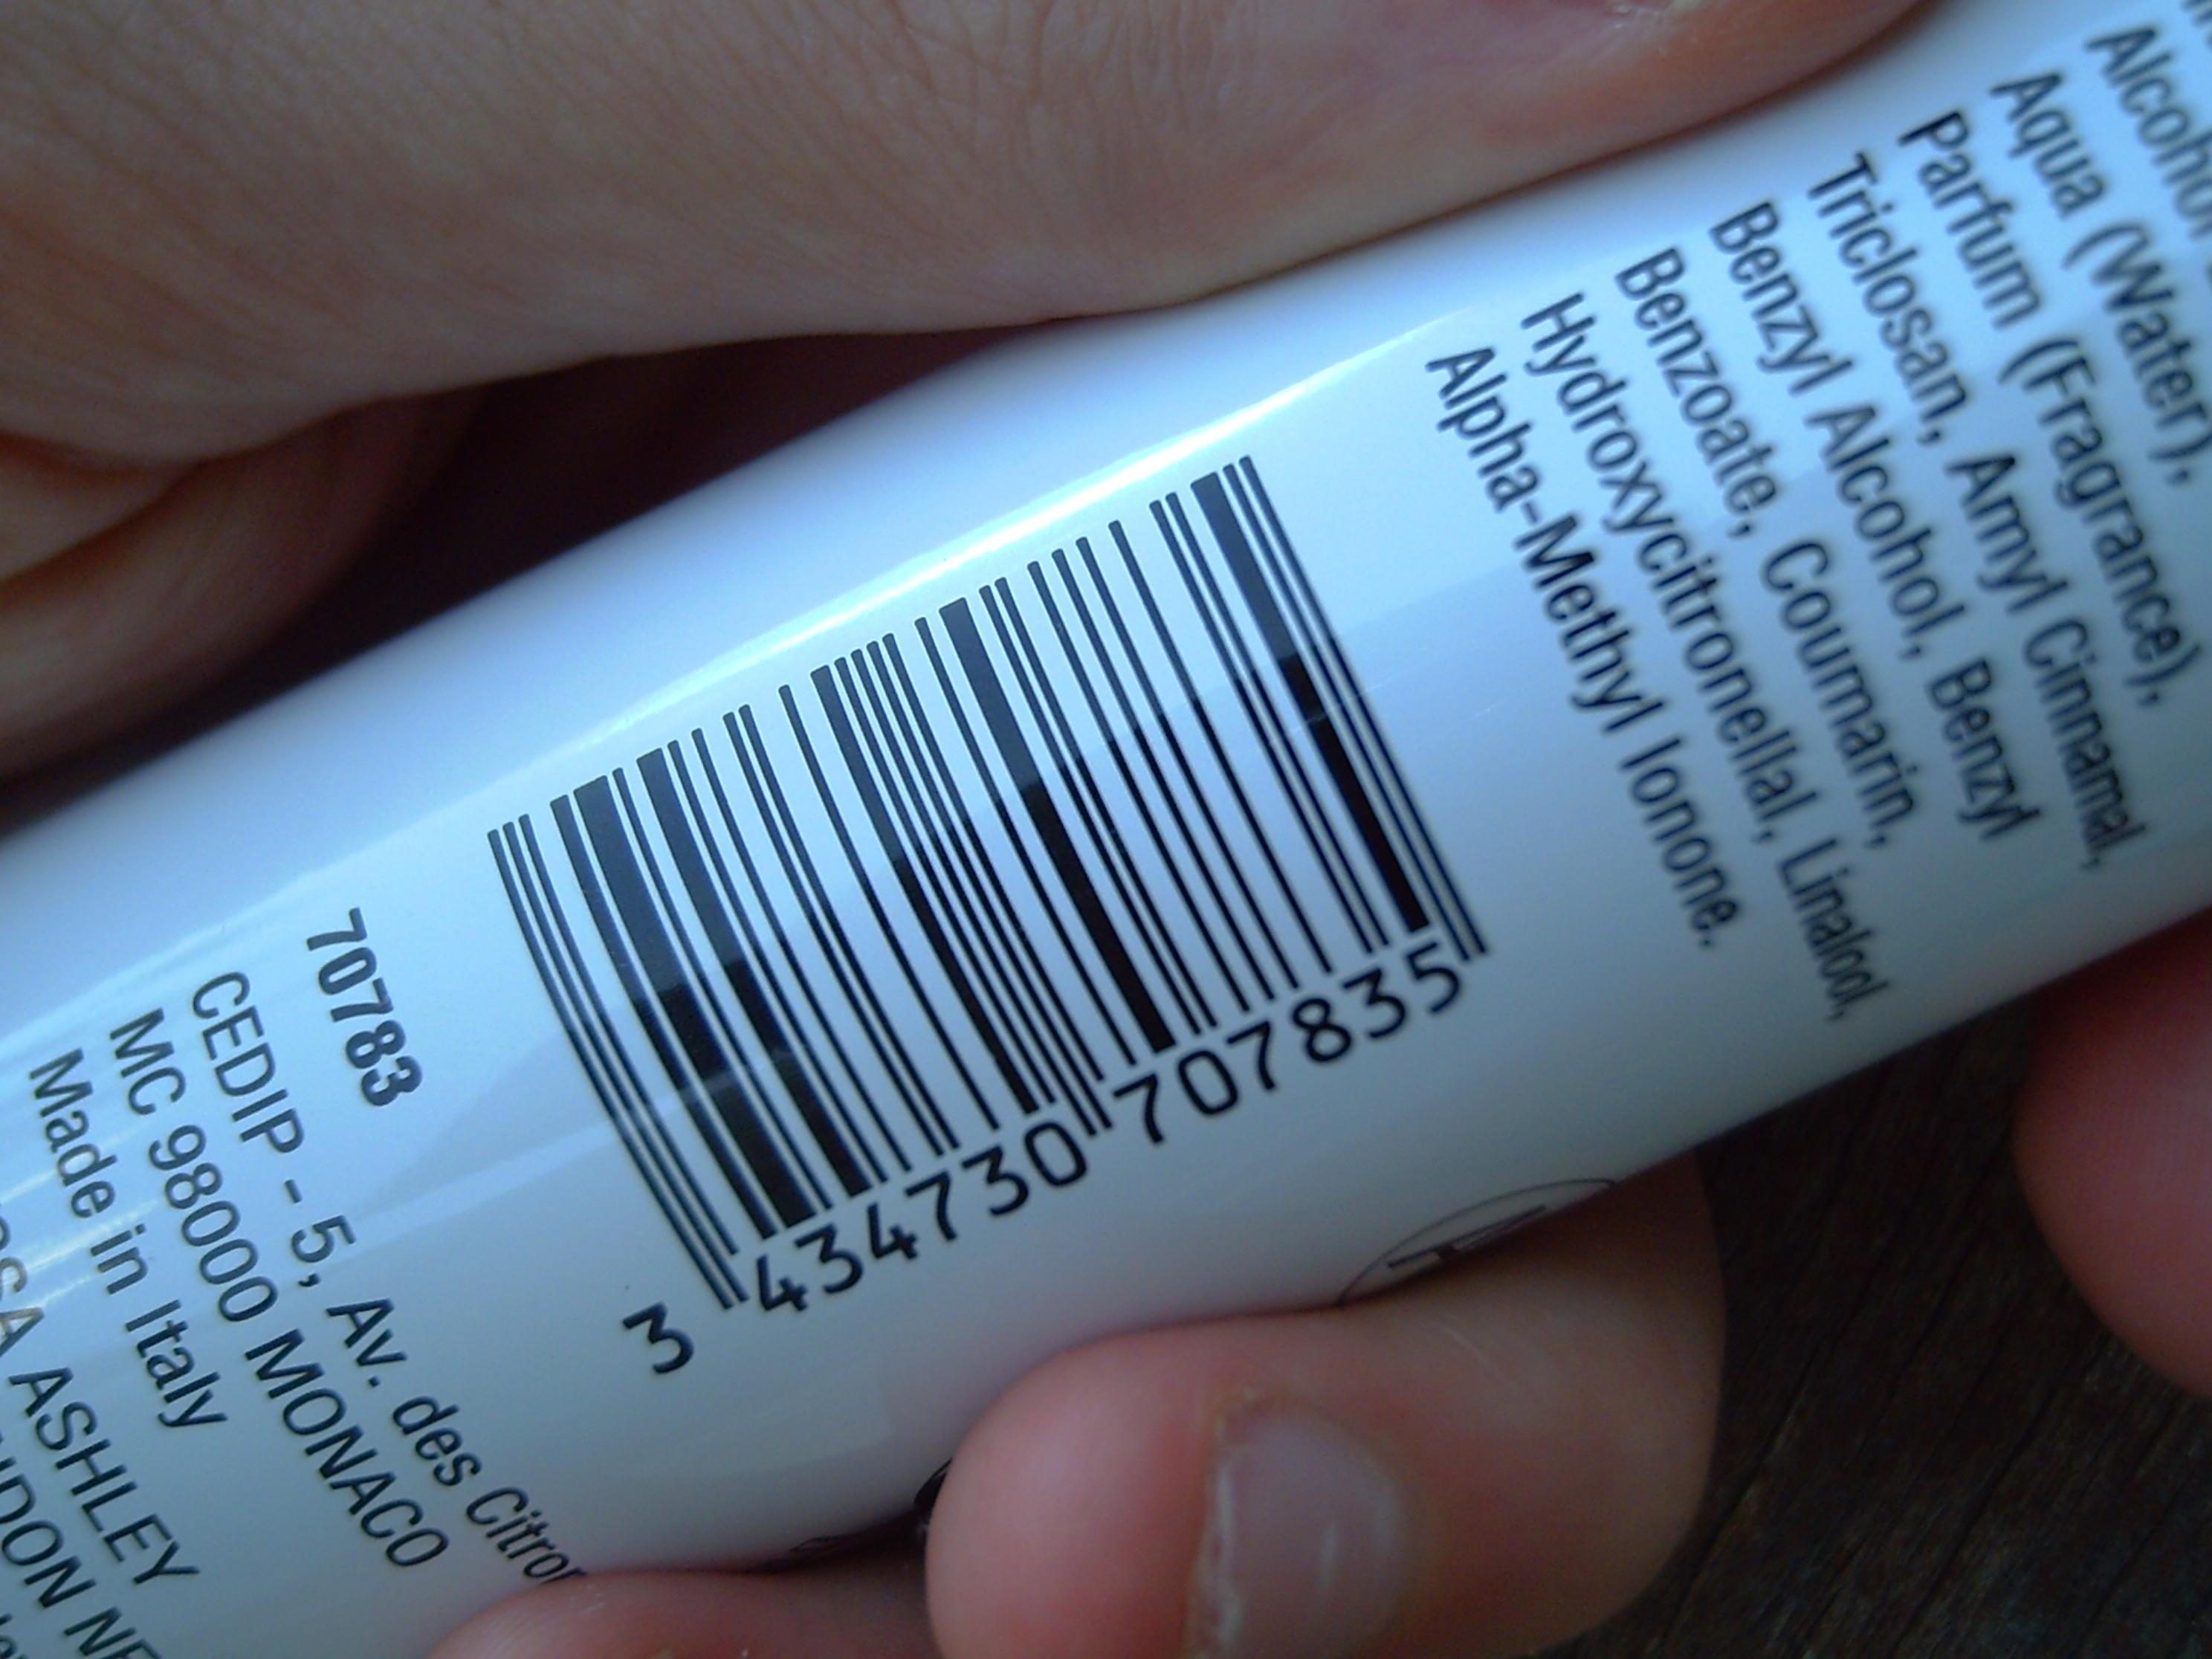barcode: (482, 448, 1510, 1401)
